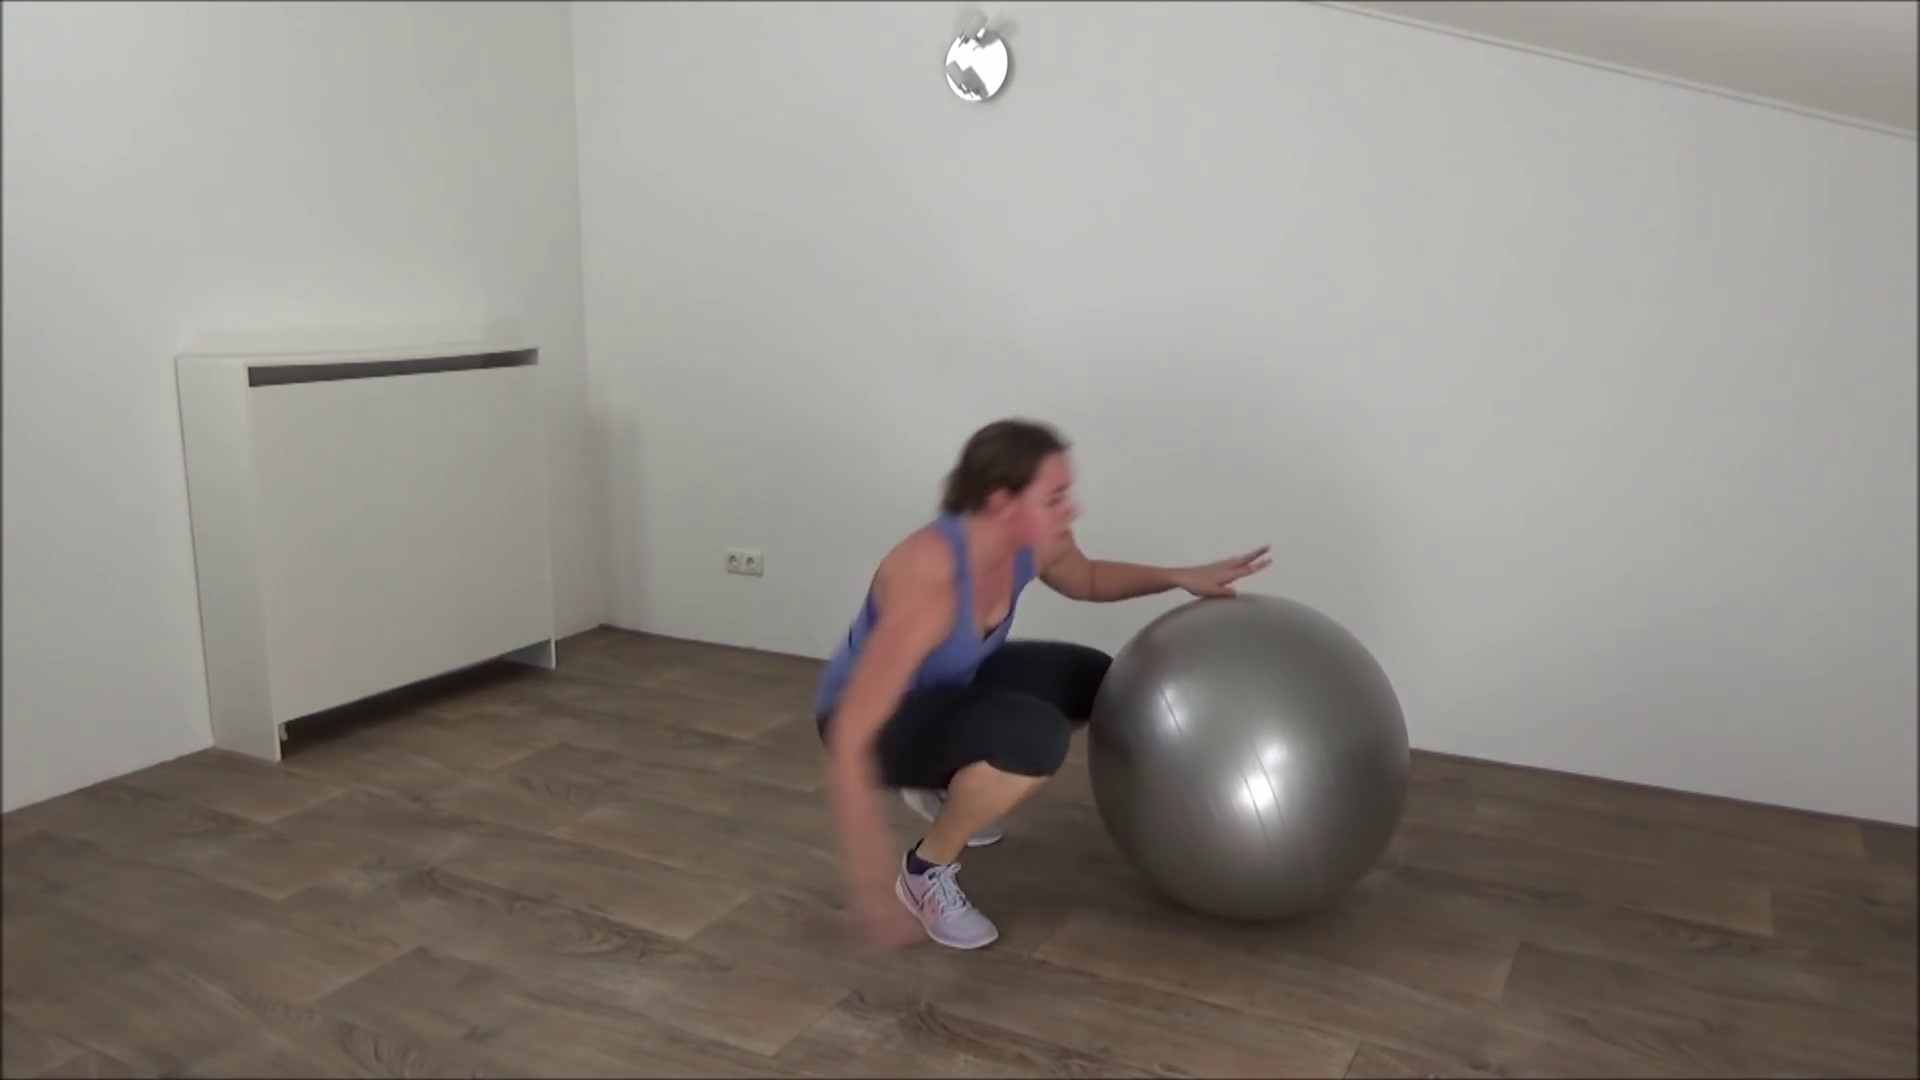yogaball: (1069, 562, 1433, 945)
